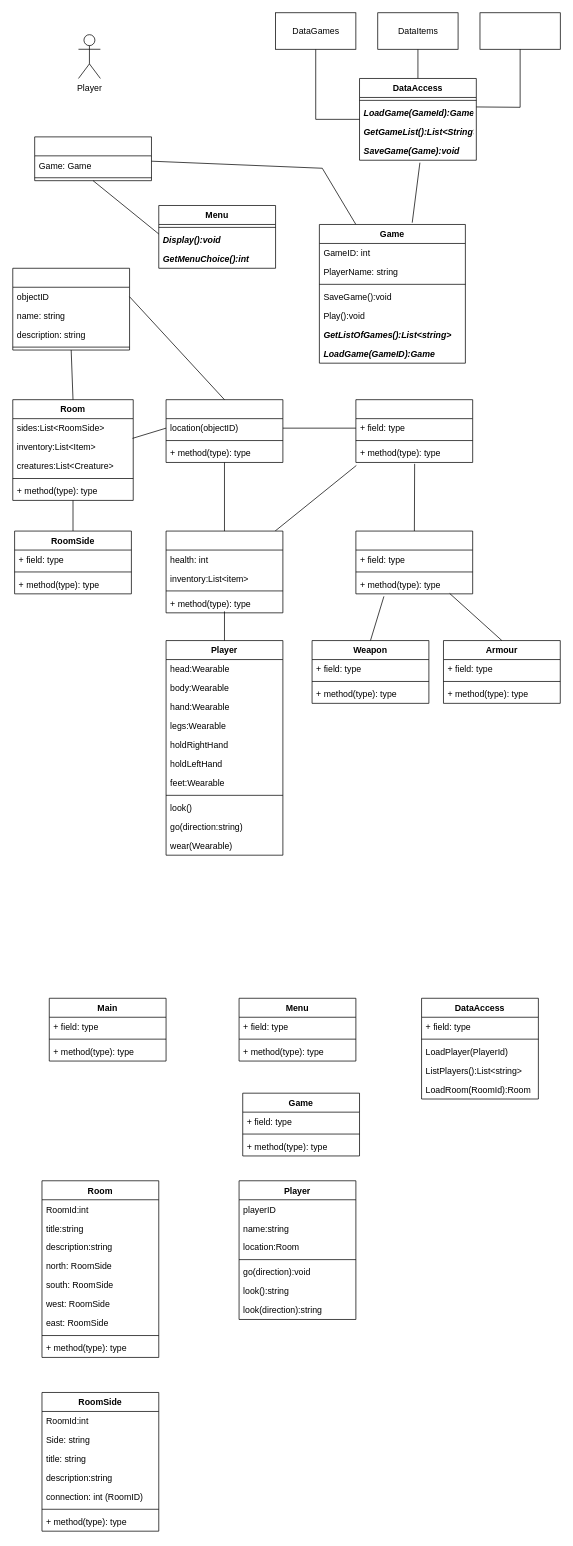
Image size: 573x1546. Some labels were removed from this diagram. The shapes that lost their labels are listed below. From the top down, each one's box as (x1, y1, x2, y2) in pixels, then its label:
(479, 12, 560, 49): DataRooms
(34, 136, 151, 181): Main (UI)
(12, 268, 130, 350): GameObject
(165, 399, 283, 462): MobileObject
(355, 399, 473, 462): Item
(165, 530, 283, 613): Creature
(355, 530, 473, 594): Wearable
